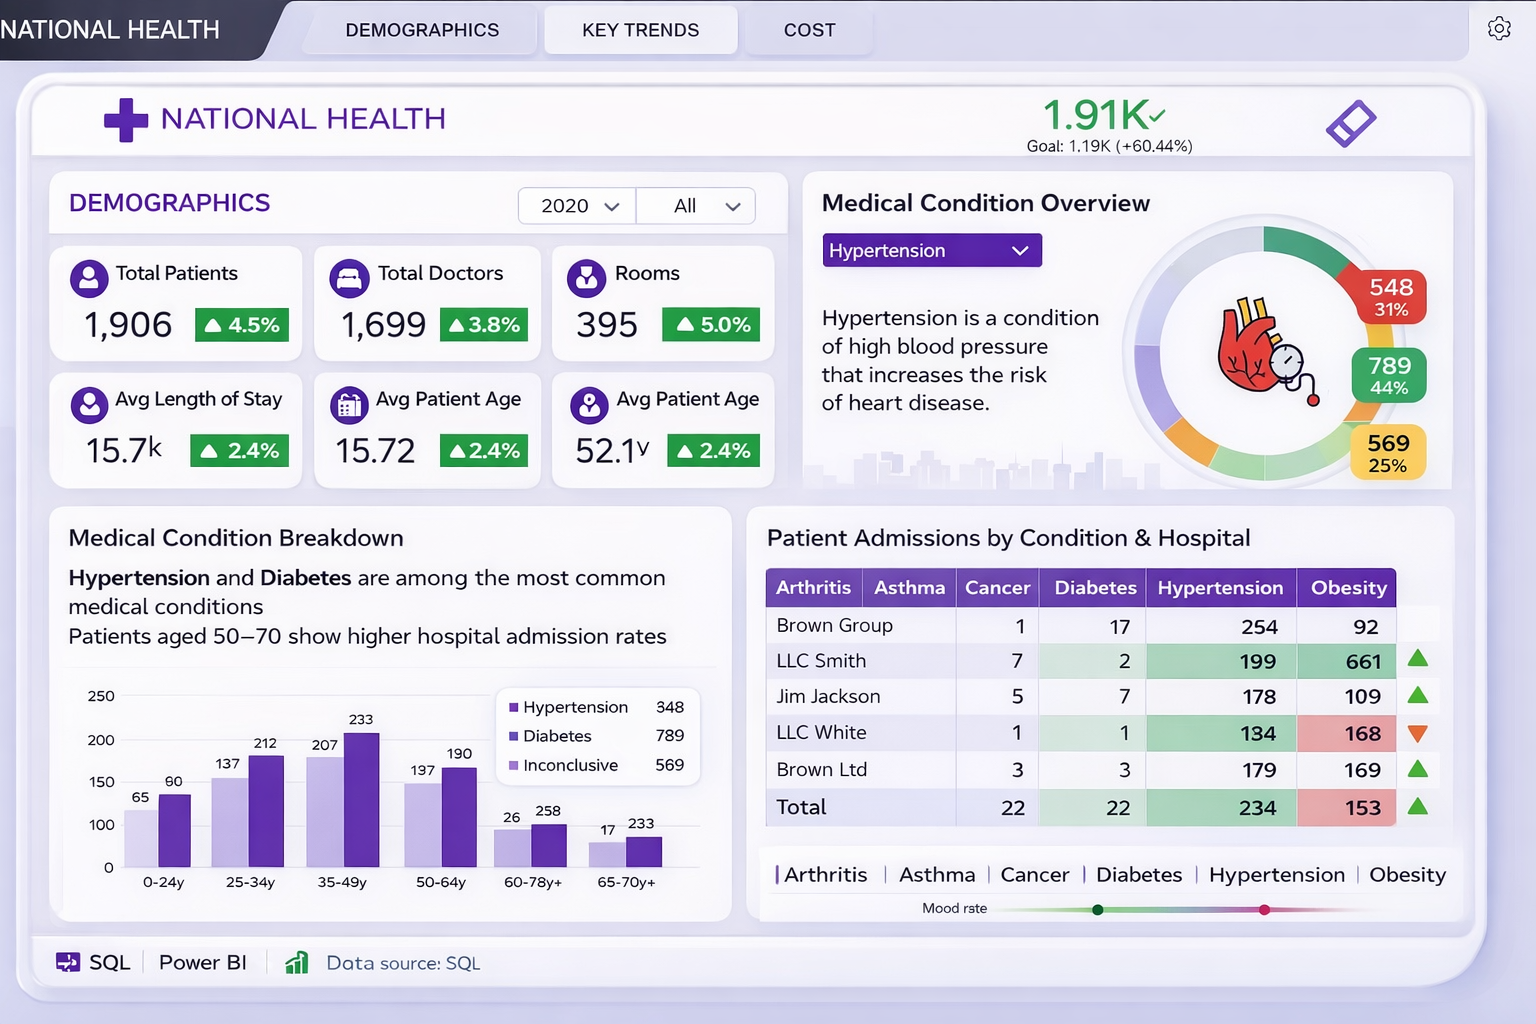

What the dashboard file says about the page in this screenshot:
{"tool":"powerbi","page":{"name":"DEMOGRAPHICS","canvas":[1280,720],"ordinal":0},"visuals":[{"type":"shape","box":[353.7,205.1,68.8,19.3],"z":0},{"type":"shape","box":[1176.8,134.9,42.7,41.3],"z":1000},{"type":"clusteredColumnChart","title":"Medical Condition","fields":{"Category":["healthcare_dataset.Age Group"],"Y":["Patient & Hosptial analytics.Total Patients"],"Series":["healthcare_dataset.Gender"]},"box":[48.4,397.8,577,253.7],"z":1000,"group":"g1"},{"type":"card","fields":{"Values":["test.abnormal%"]},"box":[1175.4,136.3,48.2,38.5],"z":2000},{"type":"shape","box":[551.9,301.4,68.8,19.3],"z":3000},{"type":"shape","box":[353.7,301.4,68.8,19.3],"z":4000},{"type":"shape","box":[152.8,301.4,68.8,19],"z":5000},{"type":"shape","box":[554.7,205.1,68.8,19.3],"z":6000},{"type":"shape","box":[152.8,207.8,68.8,19],"z":7000},{"type":"card","fields":{"Values":["Patient & Hosptial analytics.ADD YOY"]},"box":[144.5,205.1,85.3,24.8],"z":8000},{"type":"shape","box":[842.8,103.5,230,240.8],"z":9000},{"type":"textbox","box":[84,159.7,141.8,34.4],"z":10000},{"type":"card","fields":{"Values":["Patient & Hosptial analytics.Total Patients"]},"box":[43.7,194.9,92.4,40.3],"z":11000},{"type":"textbox","box":[286.3,159.7,141.8,34.4],"z":12000},{"type":"textbox","box":[84.2,259.2,142.1,34.2],"z":13000},{"type":"textbox","box":[482.9,159.2,143.4,34.2],"z":14000},{"type":"textbox","box":[482.9,259.2,143.4,32.9],"z":15000},{"type":"card","fields":{"Values":["Patient & Hosptial analytics.Total Rooms"]},"box":[256.2,193.2,78.1,41.1],"z":16000},{"type":"card","fields":{"Values":["Patient & Hosptial analytics.Avg patient age"]},"box":[450.7,293.2,72.6,41.1],"z":17000},{"type":"card","fields":{"Values":["Patient & Hosptial analytics.Average Length of stay"]},"box":[256.2,293.2,78.1,41.1],"z":18000},{"type":"card","fields":{"Values":["Patient & Hosptial analytics.Total Doctor"]},"box":[46.8,291.8,97.7,41.3],"z":19000},{"type":"card","fields":{"Values":["Finacial performance.Avg Bill amt"]},"box":[450.7,193.2,91.8,41.1],"z":20000},{"type":"card","fields":{"Values":["Min(Medical Description.Description)"]},"box":[659.3,172,185.8,173.4],"z":21000},{"type":"card","fields":{"Values":["Patient & Hosptial analytics.Test abnormal"]},"box":[1092.8,139,66.1,37.2],"z":22000},{"type":"textbox","box":[280.5,255.3,146.1,40.3],"z":23000},{"type":"textbox","box":[1119,104.6,86.7,30.3],"z":24000},{"type":"textbox","box":[1112.1,256,115.6,31.7],"z":25000},{"type":"textbox","box":[1125.8,178.9,72.9,28.9],"z":26000},{"type":"card","fields":{"Values":["Patient & Hosptial analytics.Avg stay"]},"box":[344.1,297.3,79.8,31.7],"z":27000},{"type":"card","fields":{"Values":["Patient & Hosptial analytics.Avg Age"]},"box":[540.9,297.3,85.3,30.3],"z":28000},{"type":"card","fields":{"Values":["Patient & Hosptial analytics.yoy be"]},"box":[342.7,196.8,90.8,38.5],"z":29000},{"type":"card","fields":{"Values":["Patient & Hosptial analytics.Pre doctors"]},"box":[144.5,297.3,82.6,23.4],"z":30000},{"type":"card","fields":{"Values":["Patient & Hosptial analytics.yoy bills"]},"box":[543.7,202.3,89.5,24.8],"z":31000},{"type":"bookmarkNavigator","box":[205.7,361.4,418.6,35.7],"z":32000},{"type":"tableEx","fields":{"Values":["image.image"]},"box":[900.6,149.3,124,143.3],"z":33000},{"type":"slicer","fields":{"Values":["calendar.Year"]},"box":[244.3,88.6,181.4,54.3],"z":34000},{"type":"actionButton","box":[1143.7,31.7,75.7,50.9],"z":35000},{"type":"slicer","fields":{"Values":["calendar.Month"]},"box":[442.9,88.6,182.9,54.3],"z":36000},{"type":"textbox","box":[28.6,98.6,198.6,50],"z":37000},{"type":"pageNavigator","box":[401.4,40,478.6,31.4],"z":38000},{"type":"textbox","box":[155.7,38.6,234.3,44.3],"z":39000},{"type":"pivotTable","fields":{"Rows":["healthcare_dataset.Hospital"],"Columns":["healthcare_dataset.Medical Condition"],"Values":["CountNonNull(healthcare_dataset.Medical Condition)"]},"box":[675,409,576.4,278.9],"z":40000},{"type":"clusteredColumnChart","fields":{"Category":["healthcare_dataset.Medical Condition"],"Y":["CountNonNull(healthcare_dataset.Medical Condition)"]},"box":[772.1,344.1,404.6,64.7],"z":41000},{"type":"group","id":"g1","title":"Demograpics","box":[48.2,397.8,578.1,254.6],"z":42000},{"type":"slicer","fields":{"Values":["image.Name.1"]},"box":[659.3,107.4,183.1,53.7],"z":43000},{"type":"card","fields":{"Values":["Patient & Hosptial analytics.Test abnormal"]},"box":[1088.7,209.2,66.1,37.2],"z":44000},{"type":"card","fields":{"Values":["Patient & Hosptial analytics.Test abnormal"]},"box":[1095.6,287.7,66.1,37.2],"z":45000},{"type":"image","box":[1073.5,99.1,42.7,39.9],"z":46000},{"type":"image","box":[1073.5,173.4,42.7,39.9],"z":47000},{"type":"image","box":[1073.5,251.9,42.7,39.9],"z":48000},{"type":"shape","box":[1175.4,283.5,44,41],"z":49000},{"type":"shape","box":[1176.8,205.1,42.7,41],"z":50000},{"type":"card","fields":{"Values":["test.abnormal%"]},"box":[1175.4,207.8,48.2,38],"z":51000},{"type":"card","fields":{"Values":["test.abnormal%"]},"box":[1174,284.9,48.2,38.5],"z":52000},{"type":"kpi","fields":{"TrendLine":["calendar.Year"],"Goal":["Patient & Hosptial analytics.LYTD"],"Indicator":["Patient & Hosptial analytics.ytdd"]},"box":[895.3,26.9,193.2,60.5],"z":53000}]}

Visuals, with their boxes on the page's 1280x720 design canvas (x1, y1, x2, y2). These are canvas units, not pixel positions in the 1536x1024 screenshot, which may show the page scaled, cropped or inside an application window:
shape: crop(354, 205, 422, 224)
shape: crop(1177, 135, 1220, 176)
"Medical Condition" clusteredColumnChart: crop(48, 398, 625, 652)
card - test.abnormal%: crop(1175, 136, 1224, 175)
shape: crop(552, 301, 621, 321)
shape: crop(354, 301, 422, 321)
shape: crop(153, 301, 222, 320)
shape: crop(555, 205, 624, 224)
shape: crop(153, 208, 222, 227)
card - Patient & Hosptial analytics.ADD YOY: crop(144, 205, 230, 230)
shape: crop(843, 104, 1073, 344)
textbox: crop(84, 160, 226, 194)
card - Patient & Hosptial analytics.Total Patients: crop(44, 195, 136, 235)
textbox: crop(286, 160, 428, 194)
textbox: crop(84, 259, 226, 293)
textbox: crop(483, 159, 626, 193)
textbox: crop(483, 259, 626, 292)
card - Patient & Hosptial analytics.Total Rooms: crop(256, 193, 334, 234)
card - Patient & Hosptial analytics.Avg patient age: crop(451, 293, 523, 334)
card - Patient & Hosptial analytics.Average Length of stay: crop(256, 293, 334, 334)
card - Patient & Hosptial analytics.Total Doctor: crop(47, 292, 144, 333)
card - Finacial performance.Avg Bill amt: crop(451, 193, 542, 234)
card - Min(Medical Description.Description): crop(659, 172, 845, 345)
card - Patient & Hosptial analytics.Test abnormal: crop(1093, 139, 1159, 176)
textbox: crop(280, 255, 427, 296)
textbox: crop(1119, 105, 1206, 135)
textbox: crop(1112, 256, 1228, 288)
textbox: crop(1126, 179, 1199, 208)
card - Patient & Hosptial analytics.Avg stay: crop(344, 297, 424, 329)
card - Patient & Hosptial analytics.Avg Age: crop(541, 297, 626, 328)
card - Patient & Hosptial analytics.yoy be: crop(343, 197, 434, 235)
card - Patient & Hosptial analytics.Pre doctors: crop(144, 297, 227, 321)
card - Patient & Hosptial analytics.yoy bills: crop(544, 202, 633, 227)
bookmarkNavigator: crop(206, 361, 624, 397)
tableEx - image.image: crop(901, 149, 1025, 293)
slicer - calendar.Year: crop(244, 89, 426, 143)
actionButton: crop(1144, 32, 1219, 83)
slicer - calendar.Month: crop(443, 89, 626, 143)
textbox: crop(29, 99, 227, 149)
pageNavigator: crop(401, 40, 880, 71)
textbox: crop(156, 39, 390, 83)
pivotTable - healthcare_dataset.Hospital x healthcare_dataset.Medical Condition: crop(675, 409, 1251, 688)
clusteredColumnChart - healthcare_dataset.Medical Condition x CountNonNull(healthcare_dataset.Medical Condition): crop(772, 344, 1177, 409)
"Demograpics" group: crop(48, 398, 626, 652)
slicer - image.Name.1: crop(659, 107, 842, 161)
card - Patient & Hosptial analytics.Test abnormal: crop(1089, 209, 1155, 246)
card - Patient & Hosptial analytics.Test abnormal: crop(1096, 288, 1162, 325)
image: crop(1074, 99, 1116, 139)
image: crop(1074, 173, 1116, 213)
image: crop(1074, 252, 1116, 292)
shape: crop(1175, 284, 1219, 324)
shape: crop(1177, 205, 1220, 246)
card - test.abnormal%: crop(1175, 208, 1224, 246)
card - test.abnormal%: crop(1174, 285, 1222, 323)
kpi - calendar.Year x Patient & Hosptial analytics.LYTD: crop(895, 27, 1088, 87)
